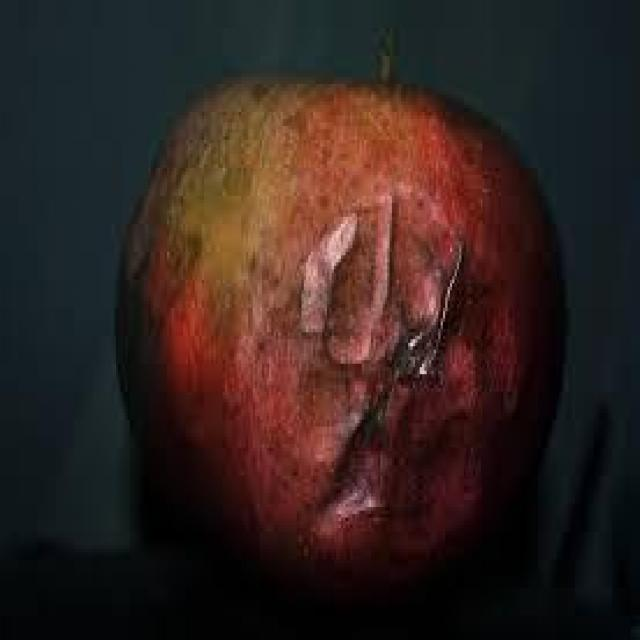Apple: (120, 75, 570, 637)
